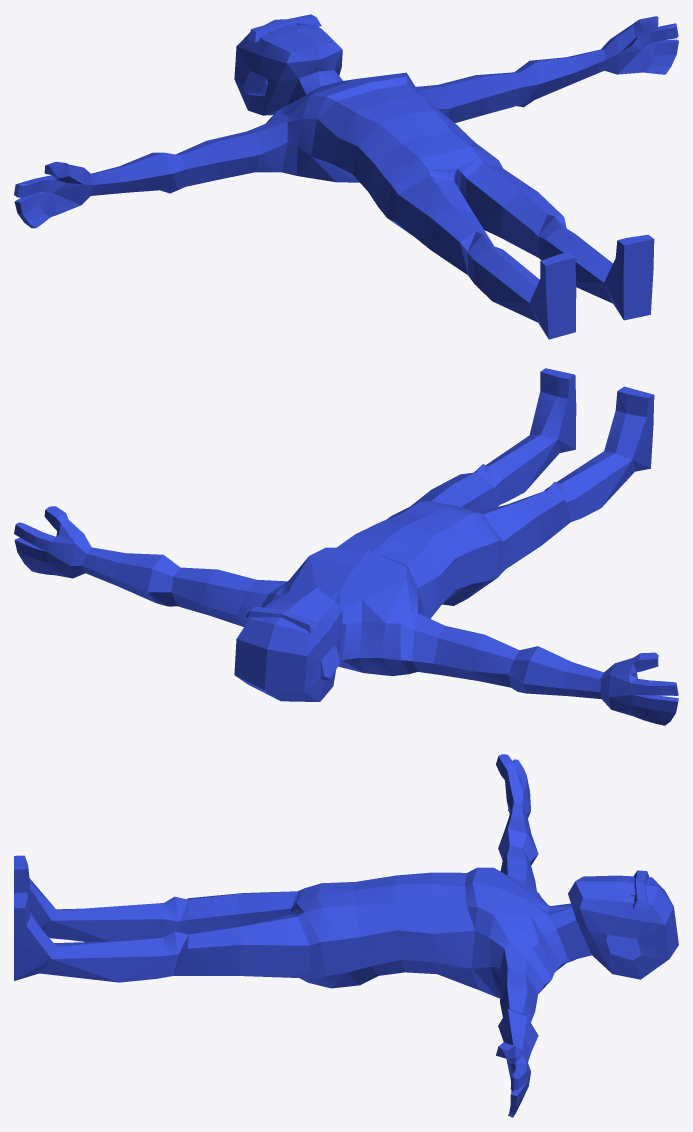
Rendered from player_character.fbx.
3 renders of one model, top to bottom at view 1: azimuth 30°, elevation 25°; view 2: azimuth 150°, elevation 25°; view 3: azimuth 270°, elevation 25°, orthographic.
Parts seen in each view (by area): view 1: Character_Male_Face_01; view 2: Character_Male_Face_01; view 3: Character_Male_Face_01.
Part boxes in pixels (x1,y1,x2,y2): Character_Male_Face_01: (14,14,678,339); Character_Male_Face_01: (14,368,678,725); Character_Male_Face_01: (14,754,678,1117).
Size of the model in its own units: 20475 by 2947 by 17910.
